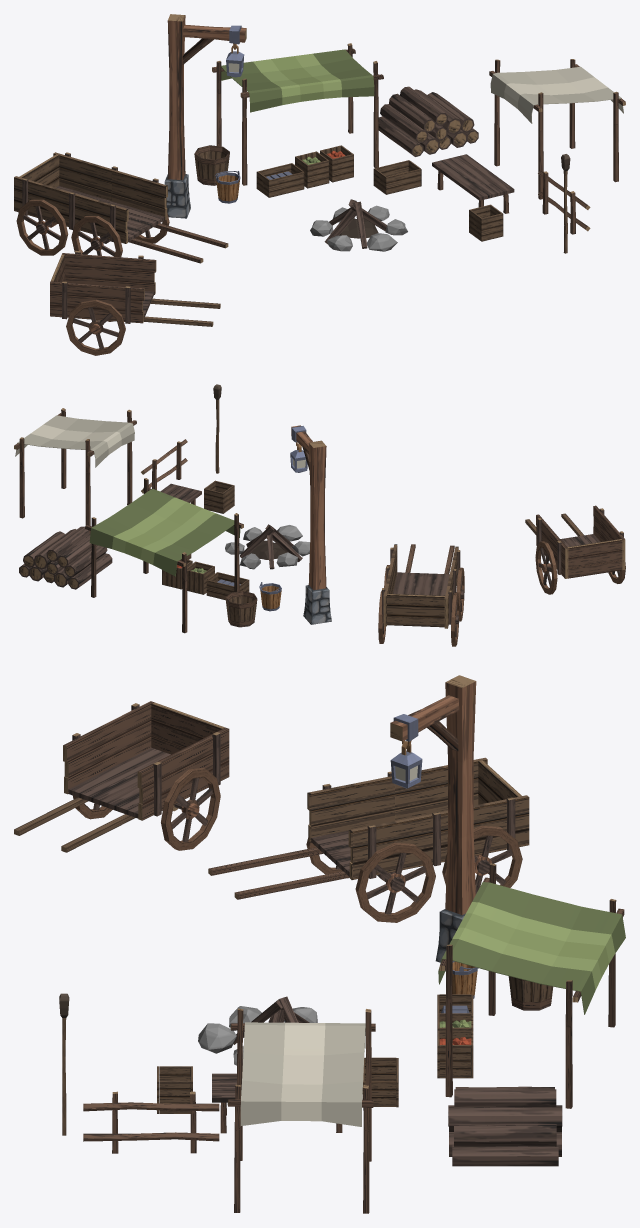
Rendered from medieval_props_minipack_4_-_market_props.glb.
The picture shows the model from 3 angles, top to bottom: view 1: azimuth 30°, elevation 25°; view 2: azimuth 150°, elevation 25°; view 3: azimuth 270°, elevation 25°; orthographic projection. The views are drawn at different scales.
Visible parts, largest first — view 1: props_cart_02, props_marketstall_B, props_cart_01, props_marketstall_A, props_lamppost_01, props_woodpile_01, props_campfire_01, props_marketTable, props_cartwheel_01, props_cartwheel_02_A.001, props_cartwheel_02_A, props_emptycrate_B (+7 smaller); view 2: props_marketstall_B, props_marketstall_A, props_cart_02, props_lamppost_01, props_cart_01, props_woodpile_01, props_campfire_01, props_cartwheel_01, props_bucket, props_emptycrate_A, props_ironcrate, props_fence_01 (+7 smaller); view 3: props_cart_02, props_marketstall_B, props_marketstall_A, props_cart_01, props_lamppost_01, props_woodpile_01, props_cartwheel_02_A, props_cartwheel_01, props_fence_01, props_campfire_01, props_cartwheel_02_A.001, props_applecrate_A (+6 smaller).
Boxes of the visible parts, <box> form: props_cart_02: <box>14,152,228,263</box>; props_marketstall_B: <box>212,43,383,185</box>; props_cart_01: <box>50,251,220,326</box>; props_marketstall_A: <box>489,59,625,199</box>; props_lamppost_01: <box>164,14,246,218</box>; props_woodpile_01: <box>378,86,478,156</box>; props_campfire_01: <box>310,199,407,251</box>; props_marketTable: <box>432,154,514,213</box>; props_cartwheel_01: <box>66,299,125,355</box>; props_cartwheel_02_A.001: <box>16,199,68,255</box>; props_cartwheel_02_A: <box>71,213,169,257</box>; props_emptycrate_B: <box>373,160,421,194</box>; props_marketstall_B: <box>85,478,243,633</box>; props_marketstall_A: <box>14,408,136,533</box>; props_cart_02: <box>382,544,460,628</box>; props_lamppost_01: <box>290,425,331,624</box>; props_cart_01: <box>525,505,625,578</box>; props_woodpile_01: <box>19,526,112,589</box>; props_campfire_01: <box>225,524,310,569</box>; props_cartwheel_01: <box>535,541,625,594</box>; props_bucket: <box>225,591,257,627</box>; props_emptycrate_A: <box>204,480,234,513</box>; props_ironcrate: <box>206,572,249,599</box>; props_fence_01: <box>141,439,187,493</box>; props_cart_02: <box>208,757,529,899</box>; props_marketstall_B: <box>438,863,625,1108</box>; props_marketstall_A: <box>227,1008,375,1213</box>; props_cart_01: <box>14,701,229,852</box>; props_lamppost_01: <box>390,675,476,962</box>; props_woodpile_01: <box>448,1086,562,1166</box>; props_cartwheel_02_A: <box>306,838,435,922</box>; props_cartwheel_01: <box>73,767,220,850</box>; props_fence_01: <box>83,1091,219,1153</box>; props_campfire_01: <box>198,996,317,1065</box>; props_cartwheel_02_A.001: <box>442,825,522,893</box>; props_applecrate_A: <box>437,1030,473,1078</box>.
Size of the model in its own units: 14.68 by 4.62 by 8.96.
Materials: 1 (1 with a texture image).
